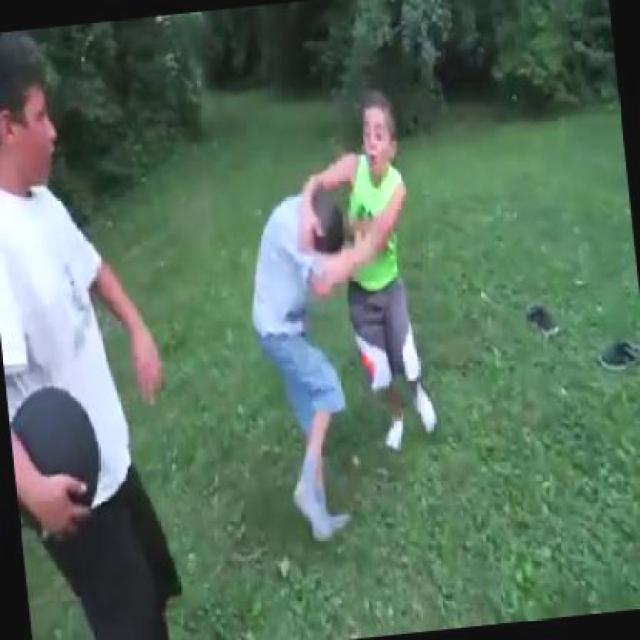fight: (230, 90, 447, 539)
non-fight: (0, 18, 192, 638)
